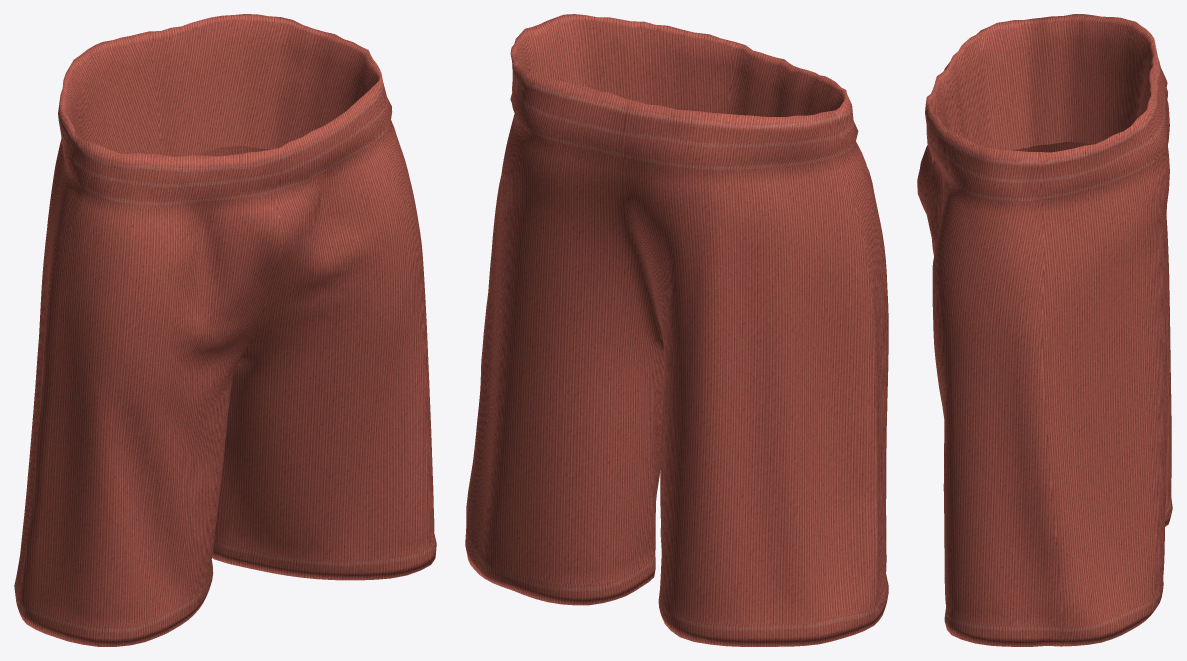
The model's file is man_shorts.glb.
The picture shows the model from 3 angles, left to right: view 1: azimuth 30°, elevation 25°; view 2: azimuth 150°, elevation 25°; view 3: azimuth 270°, elevation 25°; orthographic projection. The views are drawn at different scales.
Visible parts, largest first — view 1: Object_2; view 2: Object_2; view 3: Object_2.
Part boxes in pixels (<box>): Object_2: <box>14,14,436,646</box>; Object_2: <box>465,14,888,646</box>; Object_2: <box>917,14,1172,646</box>.
Size of the model in its own units: 0.4904 by 0.6261 by 0.2905.
Materials: 1 (1 with a texture image).
